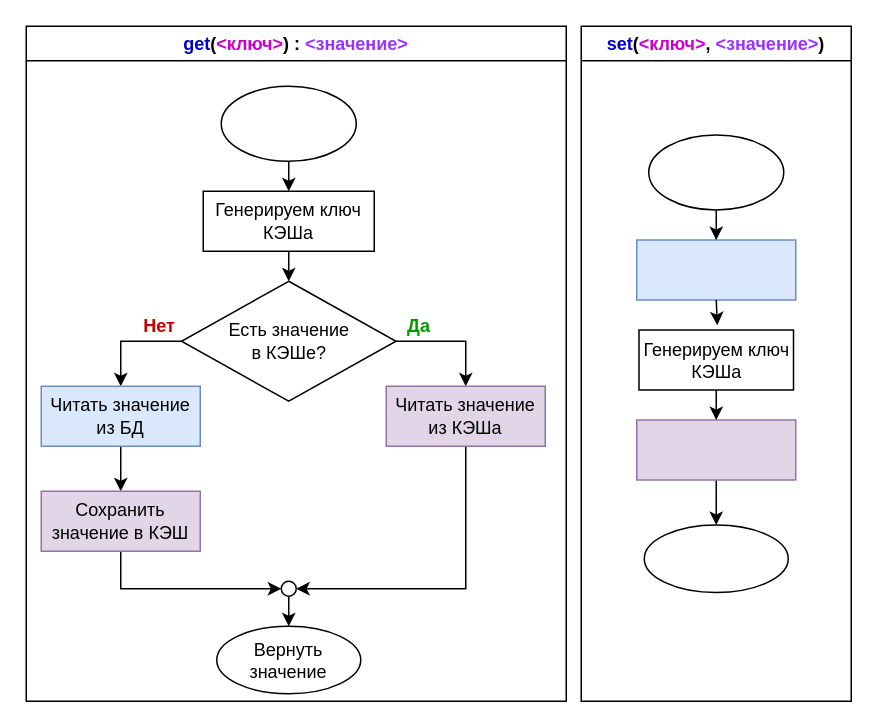
Image size: 878x728. Some labels were removed from this diagram. The shapes that lost their labels are listed below. From the top down, each one's centre as x and y in pixels, then its label:
[288,123]: Запрос значения
[715,172]: Изменение значения
[715,269]: Сохранить новое значение в БД
[715,449]: Удалить значение из КЭШа
[715,558]: Конец
